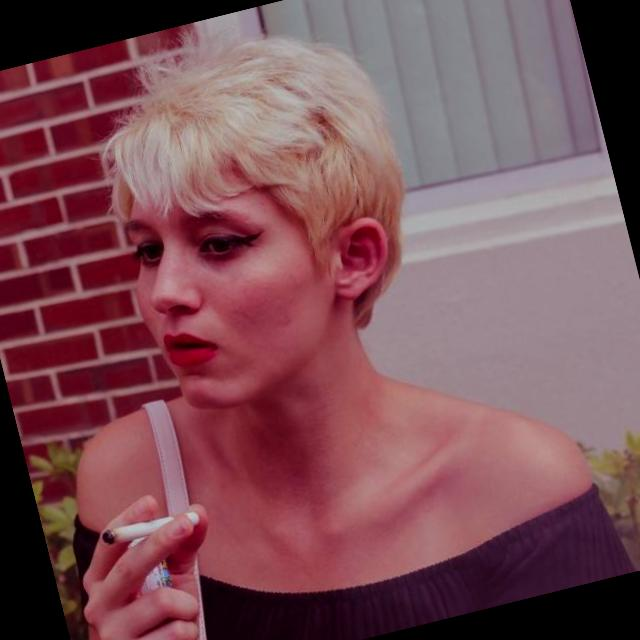cigarette: (98, 512, 174, 551)
